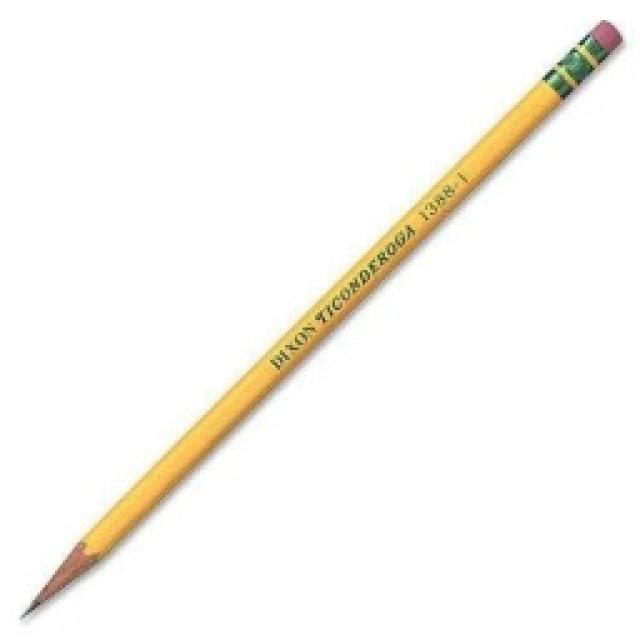pencil: (15, 12, 627, 622)
